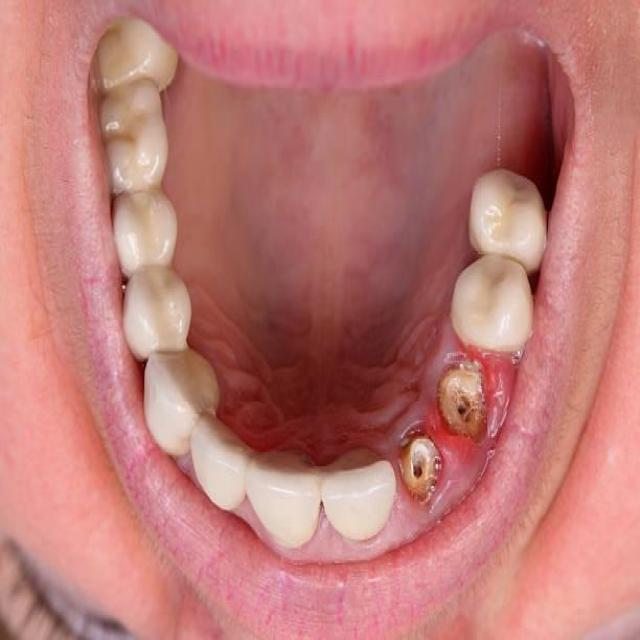caries: (435, 350, 495, 450), (398, 432, 447, 512)
